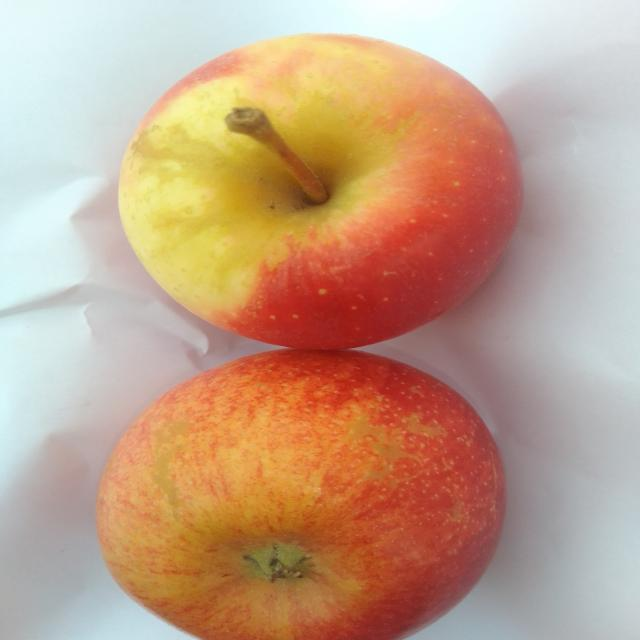Fresh Apple: (119, 39, 518, 348), (103, 356, 493, 640)
